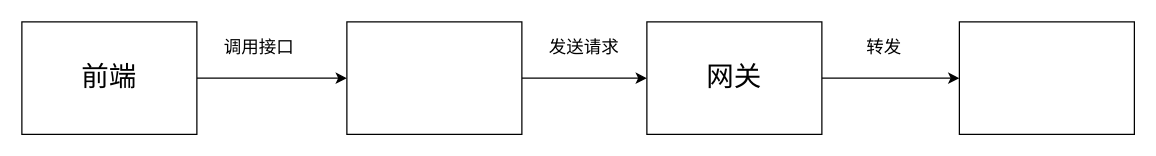
This 1156x156 diagram has some shape labels left out. The shapes that lost their labels are listed below. From the top down, each one's centre as x and y in pixels, then its label:
At point (434, 77): "后端".
At point (1046, 77): "模拟接口地址".
